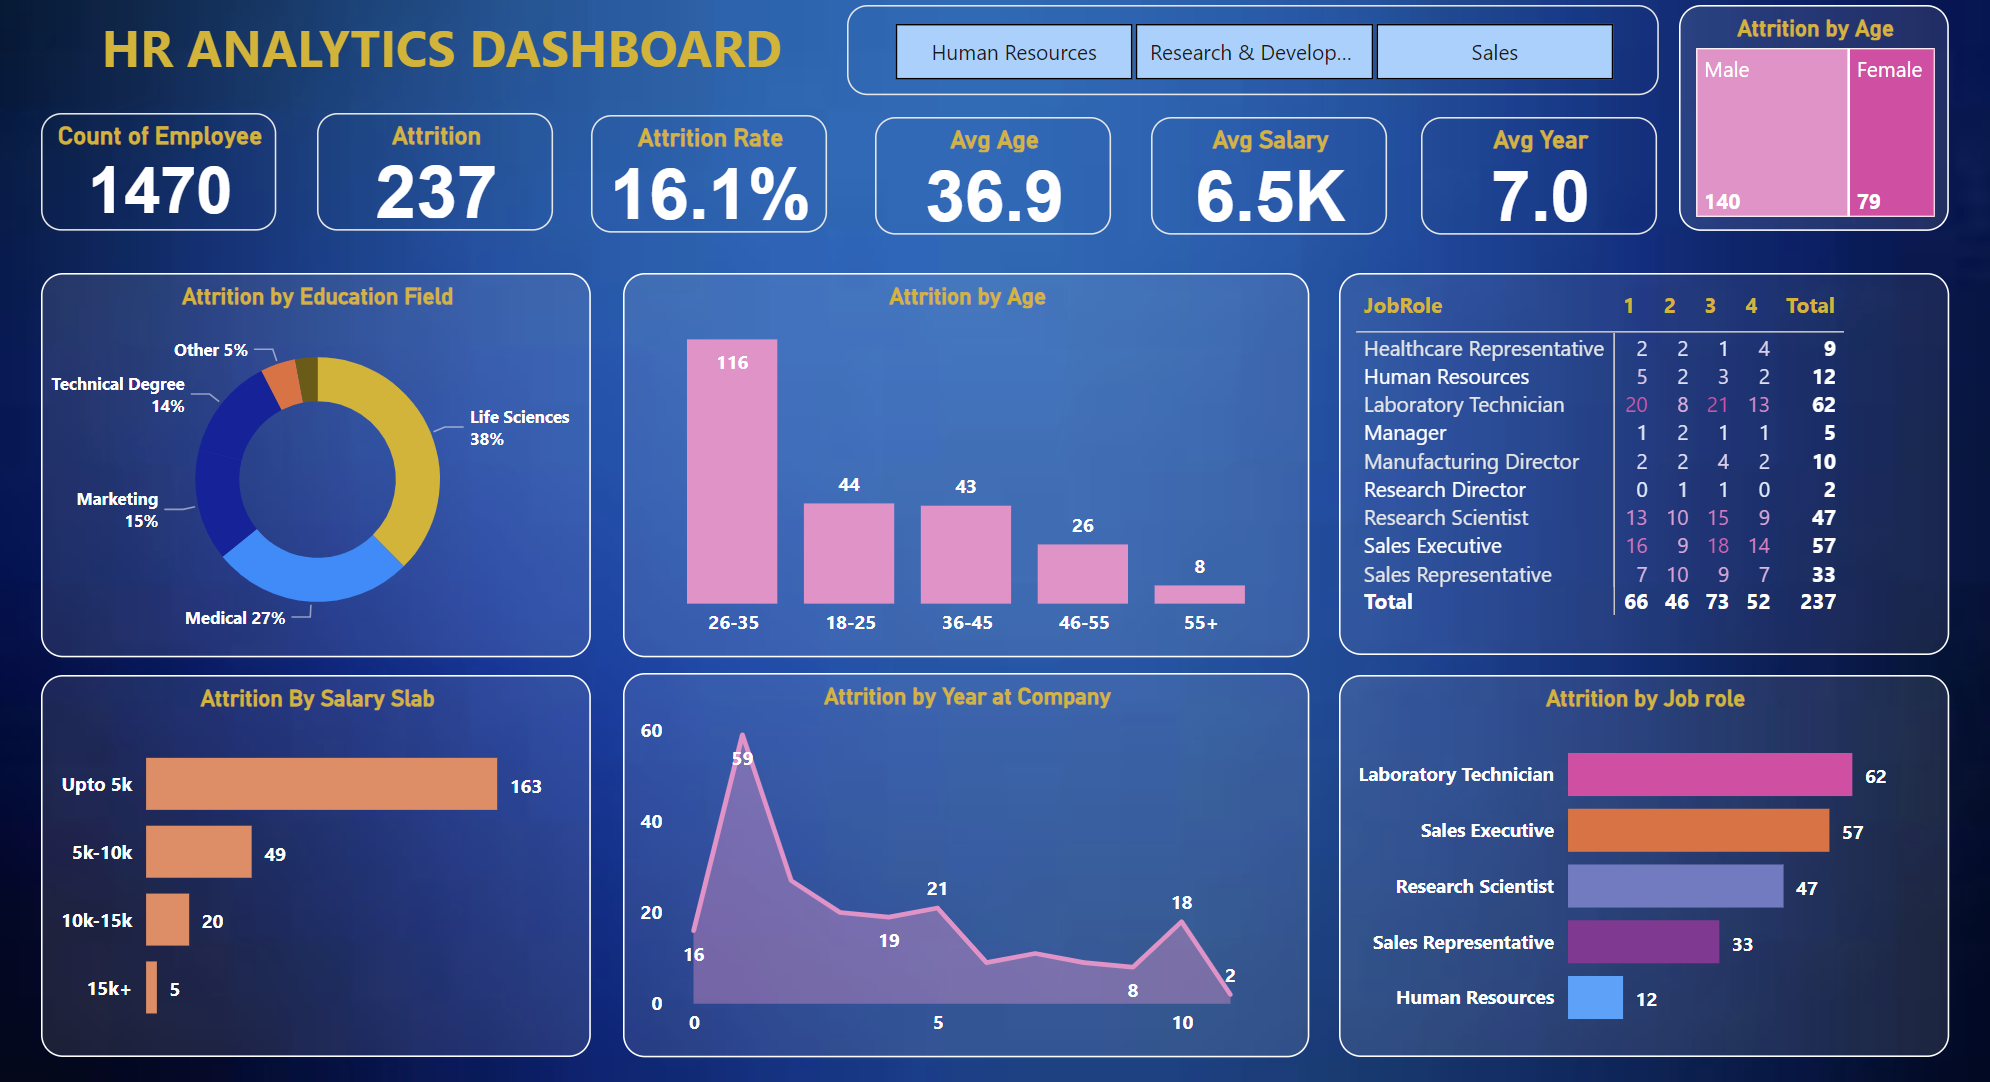

This screenshot's page, from the dashboard's own definition file:
{"tool":"powerbi","page":{"name":"Project 2 HR Analytics Dashboard ","canvas":[1280,720],"ordinal":0},"visuals":[{"type":"card","title":"Count of Employee","fields":{"Values":["CountNonNull(HR_Analytics (2).EmpID)"]},"box":[30,85.4,150,75],"z":0},{"type":"card","title":"Attrition","fields":{"Values":["Sum(HR_Analytics (2).AttritionCount)"]},"box":[205.9,85.4,150.4,75.2],"z":1000},{"type":"card","title":"Attrition Rate","fields":{"Values":["HR_Analytics (2).AttritionRate"]},"box":[381.8,86.7,150.4,75.2],"z":2000},{"type":"card","title":"Avg Age","fields":{"Values":["Avg(HR_Analytics (2).Age)"]},"box":[562.9,88,150.4,75.2],"z":3000},{"type":"card","title":"Avg Salary ","fields":{"Values":["Avg(HR_Analytics (2).MonthlyIncome)"]},"box":[738.8,88,150.4,75.2],"z":4000},{"type":"card","title":"Avg Year","fields":{"Values":["Avg(HR_Analytics (2).YearsAtCompany)"]},"box":[910.9,88,150.4,75.2],"z":5000},{"type":"donutChart","title":"Attrition by Education Field","fields":{"Y":["Sum(HR_Analytics (2).AttritionCount)"],"Category":["HR_Analytics (2).EducationField"]},"box":[30.6,187.4,350.6,244.8],"z":6000},{"type":"columnChart","title":"Attrition by Age","fields":{"Category":["HR_Analytics (2).AgeGroup"],"Y":["Sum(HR_Analytics (2).AttritionCount)"]},"box":[401.6,187.4,437.3,244.8],"z":7000},{"type":"pivotTable","fields":{"Rows":["HR_Analytics (2).JobRole"],"Columns":["HR_Analytics (2).JobSatisfaction"],"Values":["Sum(HR_Analytics (2).AttritionCount)"]},"box":[858,187.4,388.8,243.5],"z":8000},{"type":"barChart","title":"Attrition By Salary Slab","fields":{"Category":["HR_Analytics (2).SalarySlab"],"Y":["Sum(HR_Analytics (2).AttritionCount)"]},"box":[30.6,443.7,350.6,243.5],"z":9000},{"type":"barChart","title":"Attrition by Job role","fields":{"Y":["Sum(HR_Analytics (2).AttritionCount)"],"Category":["HR_Analytics (2).JobRole"]},"box":[858,443.7,388.8,243.5],"z":10000},{"type":"areaChart","title":"Attrition by Year at Company","fields":{"Category":["HR_Analytics (2).YearsAtCompany"],"Y":["Sum(HR_Analytics (2).AttritionCount)"]},"box":[401.6,442.4,437.3,244.8],"z":11000},{"type":"treemap","title":"Attrition by Age","fields":{"Group":["HR_Analytics (2).Gender"],"Values":["Sum(HR_Analytics (2).AttritionCount)"]},"box":[1074.7,16.6,172.1,144.1],"z":12000},{"type":"slicer","fields":{"Values":["HR_Analytics (2).Department"]},"box":[544.4,16.6,517.6,57.4],"z":13000},{"type":"textbox","box":[40.8,16.6,490.8,57.4],"z":14000}]}

Visuals, with their boxes on the page's 1280x720 design canvas (x1, y1, x2, y2). These are canvas units, not pixel positions in the 1990x1082 screenshot, which may show the page scaled, cropped or inside an application window:
"Count of Employee" card: 30, 85, 180, 160
"Attrition" card: 206, 85, 356, 161
"Attrition Rate" card: 382, 87, 532, 162
"Avg Age" card: 563, 88, 713, 163
"Avg Salary " card: 739, 88, 889, 163
"Avg Year" card: 911, 88, 1061, 163
"Attrition by Education Field" donutChart: 31, 187, 381, 432
"Attrition by Age" columnChart: 402, 187, 839, 432
pivotTable - HR_Analytics (2).JobRole x HR_Analytics (2).JobSatisfaction: 858, 187, 1247, 431
"Attrition By Salary Slab" barChart: 31, 444, 381, 687
"Attrition by Job role" barChart: 858, 444, 1247, 687
"Attrition by Year at Company" areaChart: 402, 442, 839, 687
"Attrition by Age" treemap: 1075, 17, 1247, 161
slicer - HR_Analytics (2).Department: 544, 17, 1062, 74
textbox: 41, 17, 532, 74
